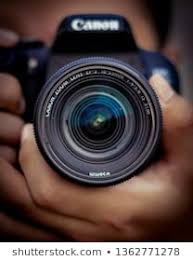camera: (20, 33, 161, 185)
